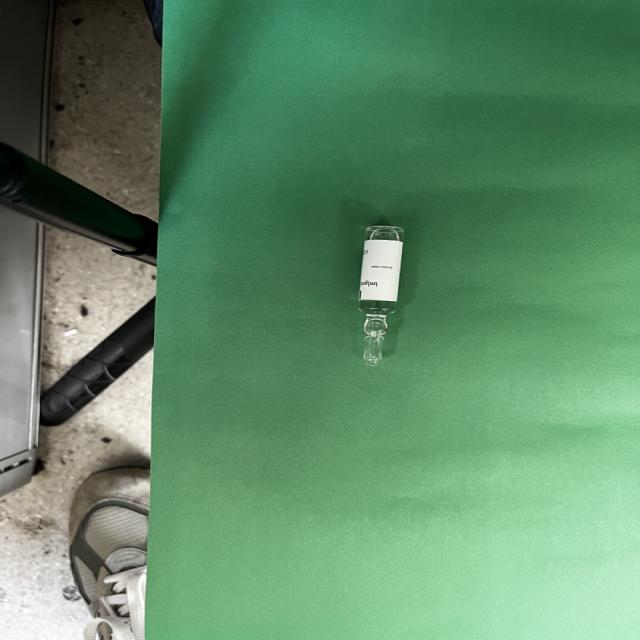Ampoules: (357, 222, 404, 365)
